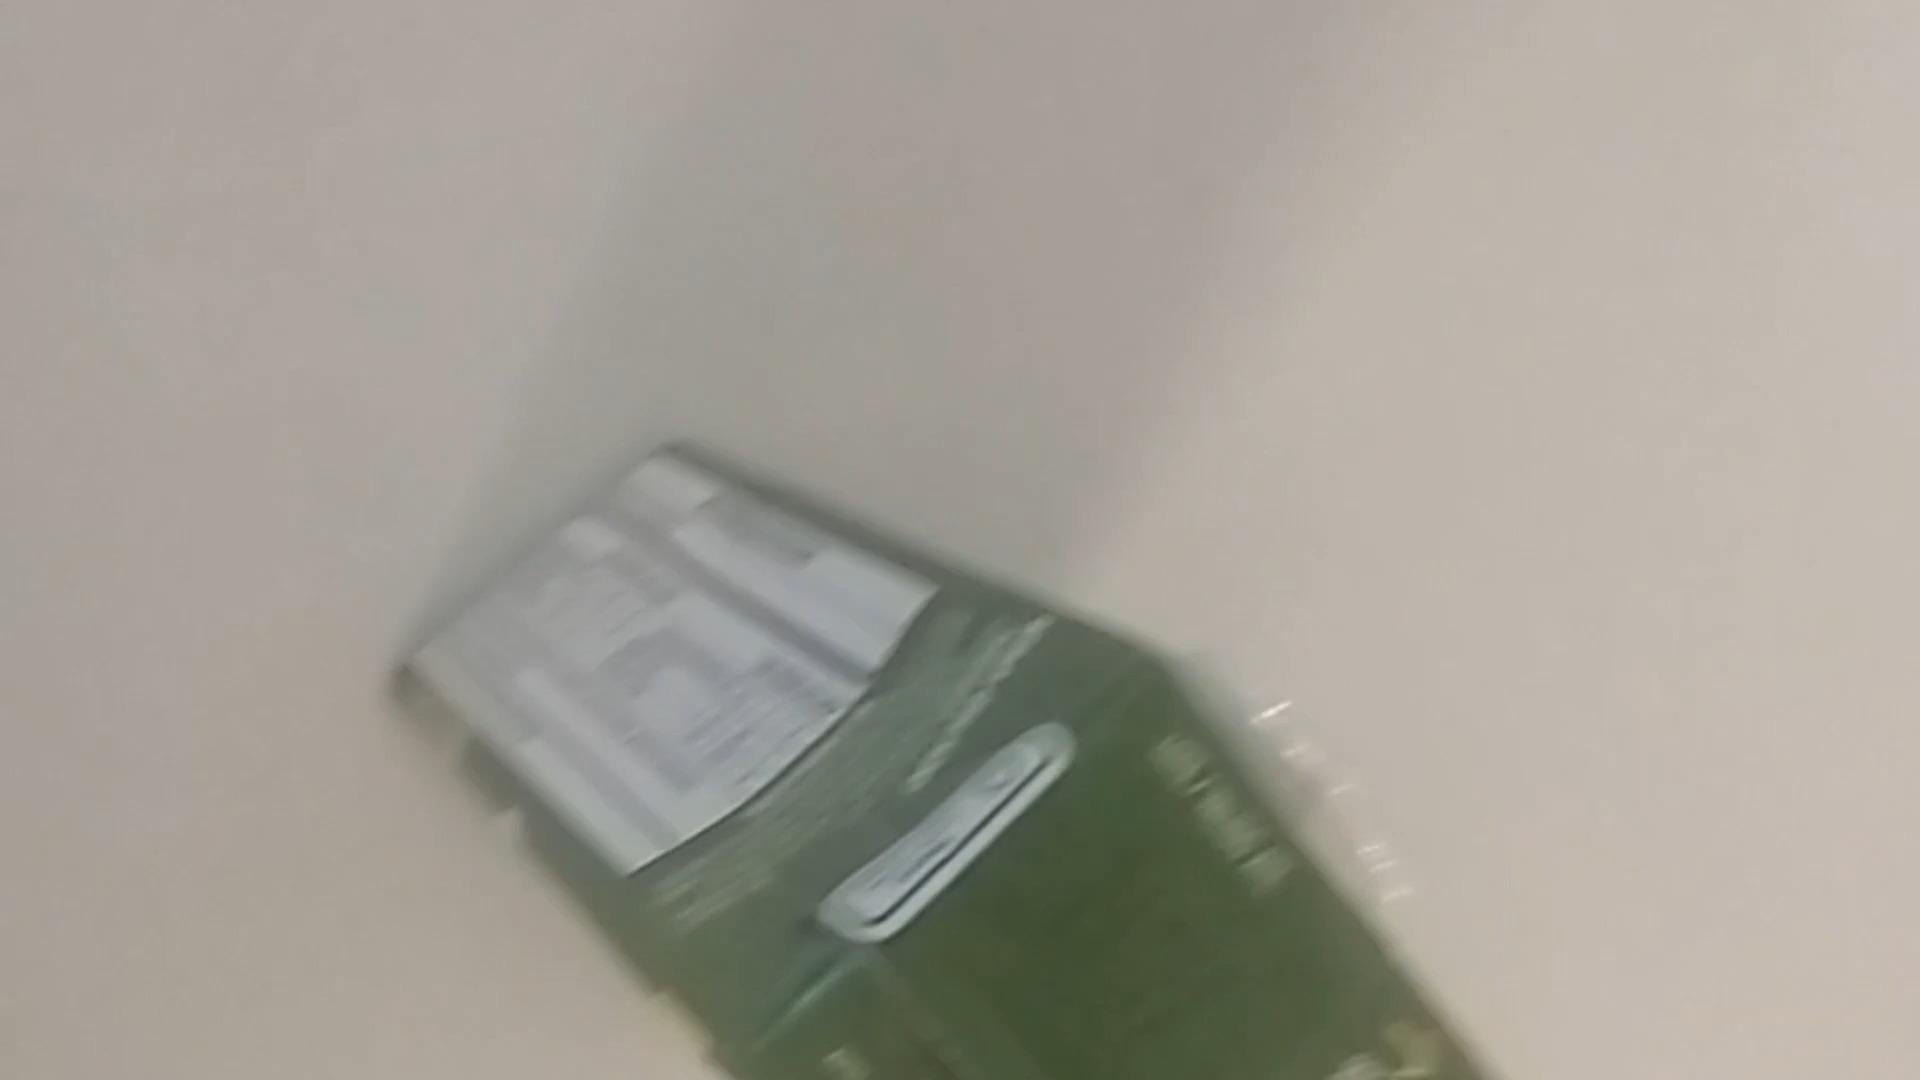coco: (390, 425, 1476, 1080)
